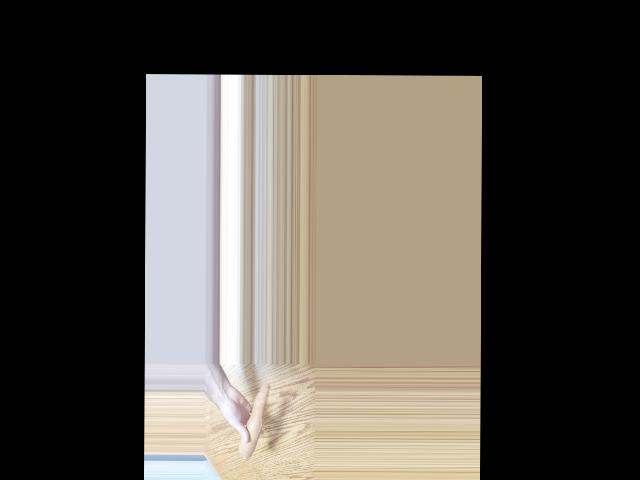sweet_potato: (242, 379, 264, 458)
